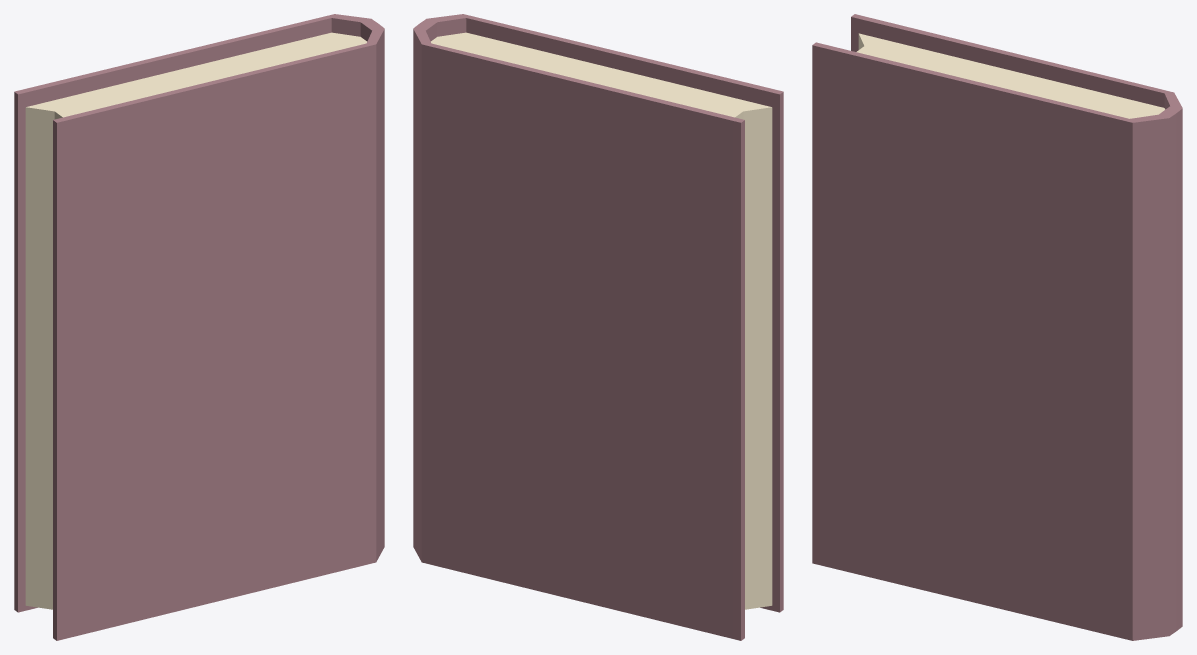
The model's file is Book_05.fbx.
3 views of the same model, side by side, from view 1: azimuth 30°, elevation 25°; view 2: azimuth 150°, elevation 25°; view 3: azimuth 330°, elevation 25° (orthographic).
Parts seen in each view (by area): view 1: Plane.229; view 2: Plane.229; view 3: Plane.229.
Boxes of the visible parts, box(x1,y1,x2,y2) form: Plane.229: box(14, 14, 384, 640); Plane.229: box(413, 14, 783, 640); Plane.229: box(812, 14, 1182, 640).
Size of the model in its own units: 0.4278 by 0.0922 by 0.6177.
